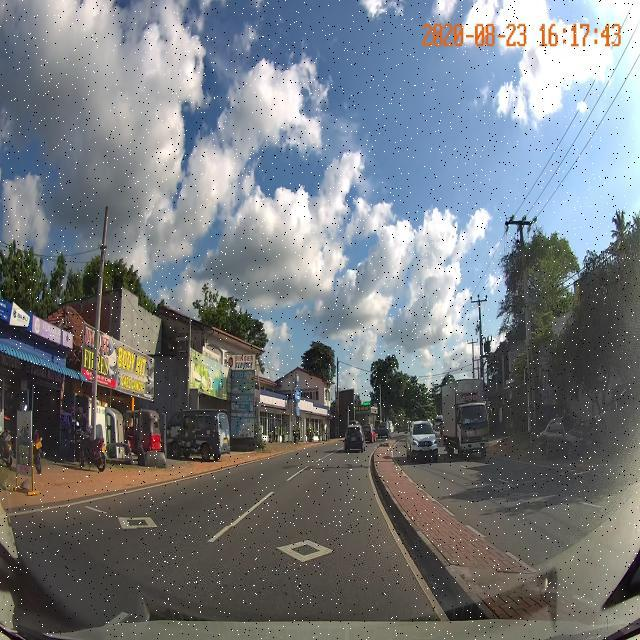diamond: (139, 527, 434, 594)
